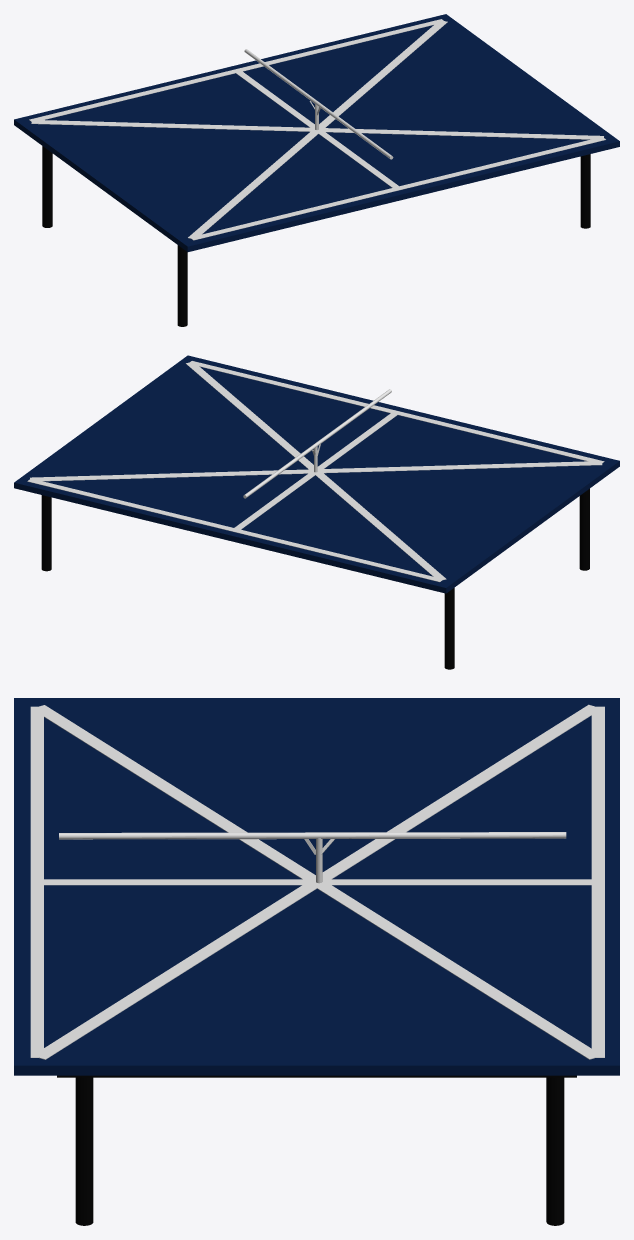
Rendered from TablaSpace.fbx.
The picture shows the model from 3 angles, top to bottom: view 1: azimuth 30°, elevation 25°; view 2: azimuth 150°, elevation 25°; view 3: azimuth 270°, elevation 25°; orthographic projection. The views are drawn at different scales.
Visible parts, largest first — view 1: Cube.001, Cube.005, Cube.006, Cube.004, Cube.002, Cube.003, Cylinder.002, Cylinder.003, Cylinder.001, Cylinder.006; view 2: Cube.001, Cube.006, Cube.005, Cube.004, Cube.002, Cube.003, Cylinder.003, Cylinder.002, Cylinder, Cylinder.006; view 3: Cube.001, Cube.006, Cube.005, Cube.004, Cube.002, Cube.003, Cylinder.006, Cylinder, Cylinder.001, Cube.
Boxes of the visible parts, x1=… form: Cube.001: x1=14, y1=14, x2=619, y2=251; Cube.005: x1=31, y1=119, x2=603, y2=139; Cube.006: x1=188, y1=21, x2=447, y2=239; Cube.004: x1=29, y1=19, x2=444, y2=121; Cube.002: x1=191, y1=136, x2=605, y2=240; Cube.003: x1=236, y1=71, x2=402, y2=190; Cylinder.002: x1=177, y1=245, x2=187, y2=326; Cylinder.003: x1=42, y1=146, x2=52, y2=227; Cylinder.001: x1=580, y1=154, x2=590, y2=228; Cylinder.006: x1=244, y1=49, x2=393, y2=159; Cube.001: x1=14, y1=355, x2=619, y2=593; Cube.006: x1=30, y1=461, x2=602, y2=481; Cube.005: x1=185, y1=362, x2=446, y2=579; Cube.004: x1=27, y1=478, x2=443, y2=582; Cube.002: x1=188, y1=361, x2=604, y2=462; Cube.003: x1=234, y1=410, x2=400, y2=529; Cylinder.003: x1=444, y1=588, x2=454, y2=669; Cylinder.002: x1=579, y1=488, x2=589, y2=570; Cylinder: x1=41, y1=495, x2=51, y2=571; Cylinder.006: x1=243, y1=389, x2=391, y2=498; Cube.001: x1=14, y1=698, x2=619, y2=1075; Cube.006: x1=32, y1=705, x2=594, y2=1059; Cube.005: x1=34, y1=704, x2=601, y2=1059; Cube.004: x1=591, y1=706, x2=604, y2=1057; Cube.002: x1=30, y1=706, x2=43, y2=1057; Cube.003: x1=31, y1=879, x2=591, y2=885; Cylinder.006: x1=59, y1=832, x2=566, y2=839; Cylinder: x1=546, y1=1077, x2=564, y2=1225; Cylinder.001: x1=75, y1=1077, x2=93, y2=1225; Cube: x1=57, y1=1075, x2=576, y2=1077.
Size of the model in its own units: 7286 by 2019 by 5076.
